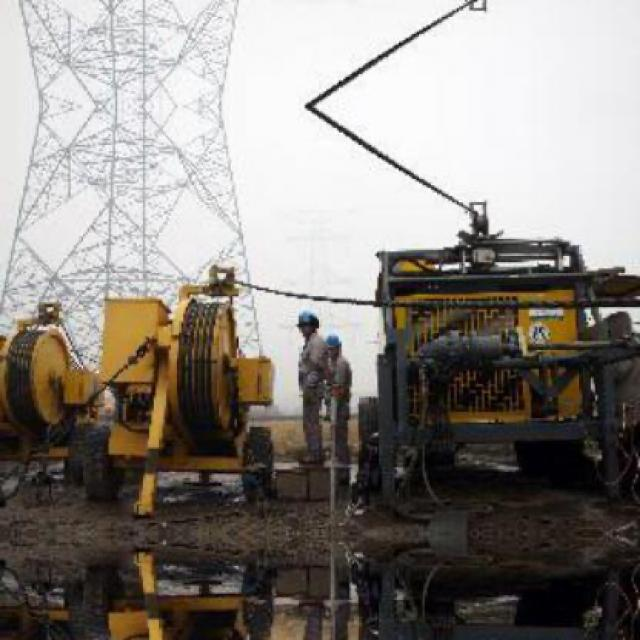helmet: (295, 308, 323, 336), (323, 333, 343, 356)
